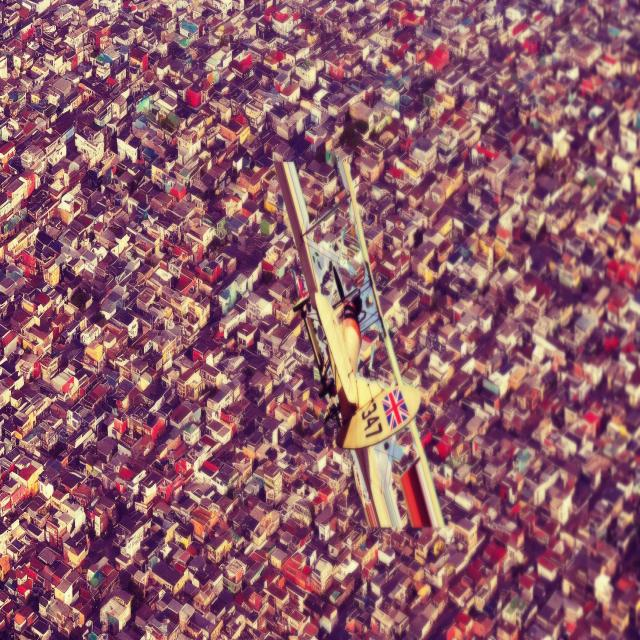airplane: (273, 150, 446, 534)
